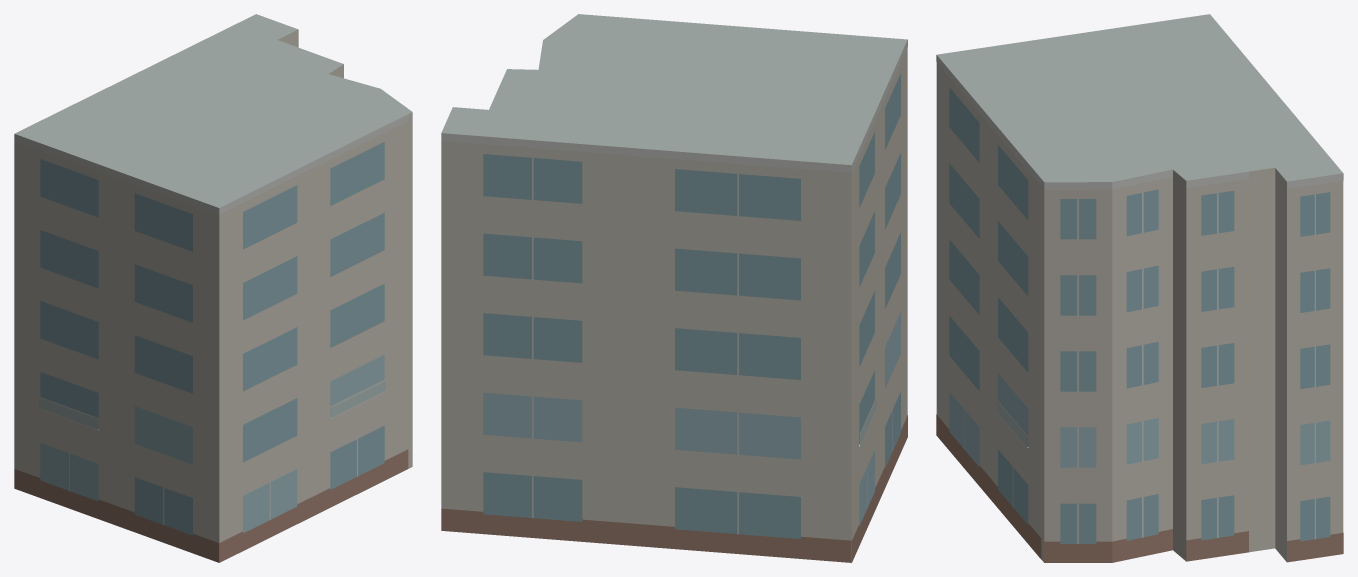
The model's file is survey-upis-32618454.glb.
3 renders of one model, left to right at view 1: azimuth 30°, elevation 25°; view 2: azimuth 150°, elevation 25°; view 3: azimuth 270°, elevation 25°, orthographic. The views are drawn at different scales.
Parts seen in each view (by area): view 1: survey-upis-32618454.tmp; view 2: survey-upis-32618454.tmp; view 3: survey-upis-32618454.tmp.
Boxes of the visible parts, x1=… form: survey-upis-32618454.tmp: x1=14, y1=14, x2=412, y2=562; survey-upis-32618454.tmp: x1=441, y1=14, x2=907, y2=562; survey-upis-32618454.tmp: x1=936, y1=14, x2=1343, y2=562.
Size of the model in its own units: 11.95 by 12.6 by 12.22.
